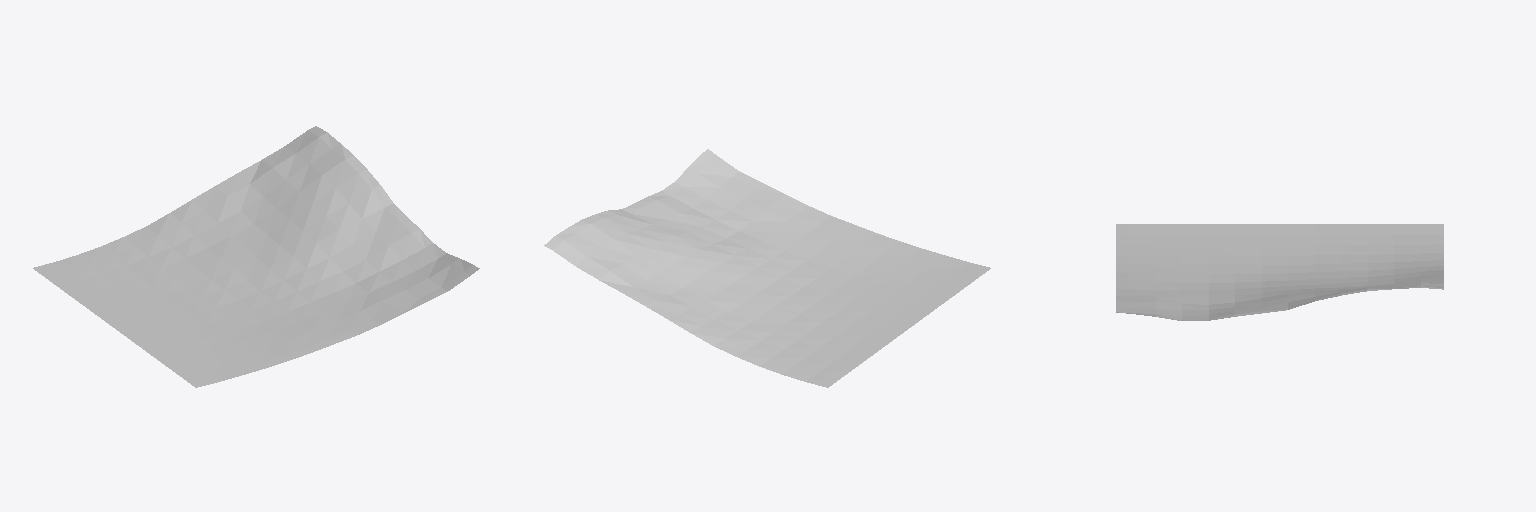
The model's file is Landscape.006.obj.
3 views of the same model, side by side, from view 1: azimuth 30°, elevation 25°; view 2: azimuth 150°, elevation 25°; view 3: azimuth 270°, elevation 25° (orthographic).
Visible parts, largest first — view 1: Landscape.006; view 2: Landscape.006; view 3: Landscape.006.
Part boxes in pixels (x1,y1,x2,y2): Landscape.006: (33, 126, 479, 387); Landscape.006: (544, 149, 990, 387); Landscape.006: (1116, 224, 1443, 320).
Size of the model in its own units: 32 by 8.06 by 32.